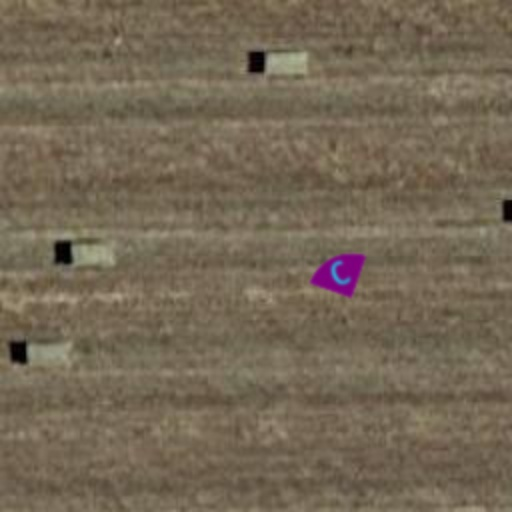quarter_circle: (298, 232, 382, 316)
